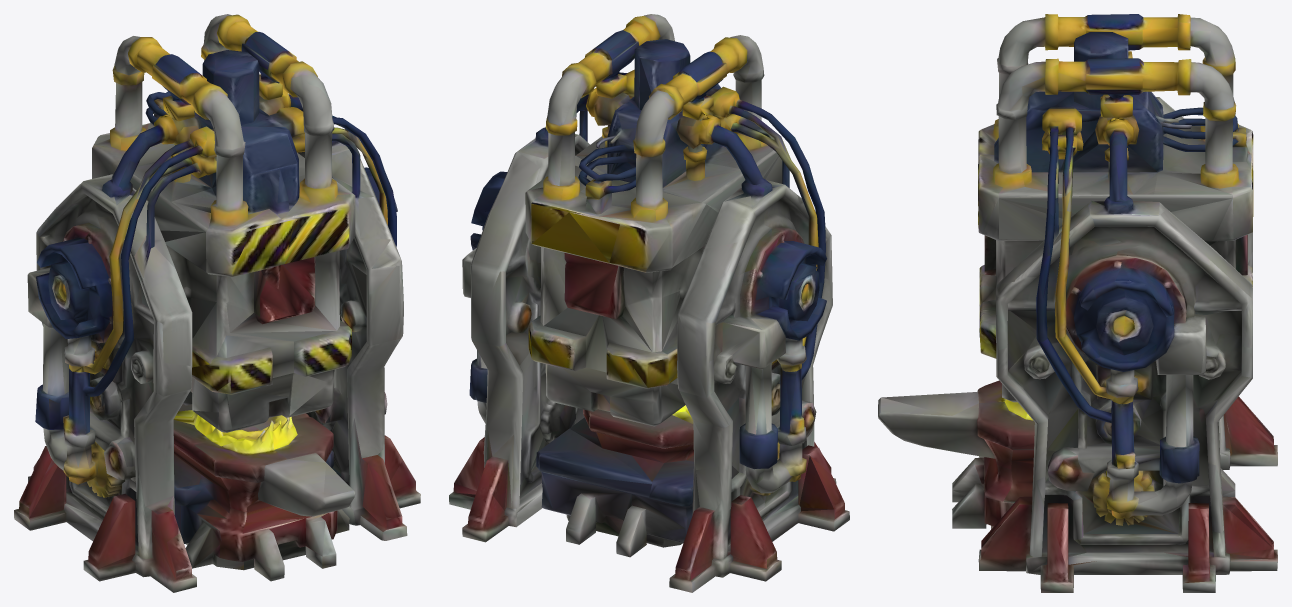
File: prop_forge_press.fbx
3 views of the same model, side by side, from view 1: azimuth 30°, elevation 25°; view 2: azimuth 150°, elevation 25°; view 3: azimuth 270°, elevation 25° (orthographic). The views are drawn at different scales.
Parts seen in each view (by area): view 1: tripo_node_450fa045-5878-4f3a-b8e7-6e090ffcdbbf; view 2: tripo_node_450fa045-5878-4f3a-b8e7-6e090ffcdbbf; view 3: tripo_node_450fa045-5878-4f3a-b8e7-6e090ffcdbbf.
Boxes of the visible parts, bbox=[...] form: tripo_node_450fa045-5878-4f3a-b8e7-6e090ffcdbbf: bbox=[14, 14, 420, 592]; tripo_node_450fa045-5878-4f3a-b8e7-6e090ffcdbbf: bbox=[449, 14, 849, 592]; tripo_node_450fa045-5878-4f3a-b8e7-6e090ffcdbbf: bbox=[878, 14, 1277, 592].
Size of the model in its own units: 0.709 by 0.9784 by 0.7455.
